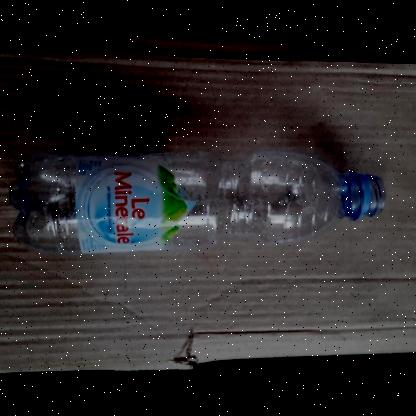Plastic Bottle: (11, 148, 385, 252)
